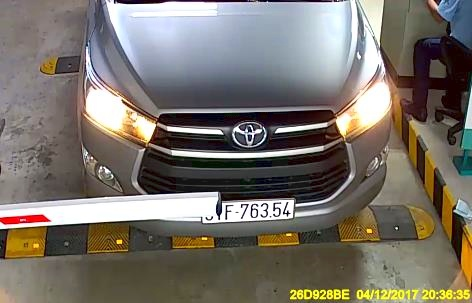plate: (202, 199, 297, 223)
